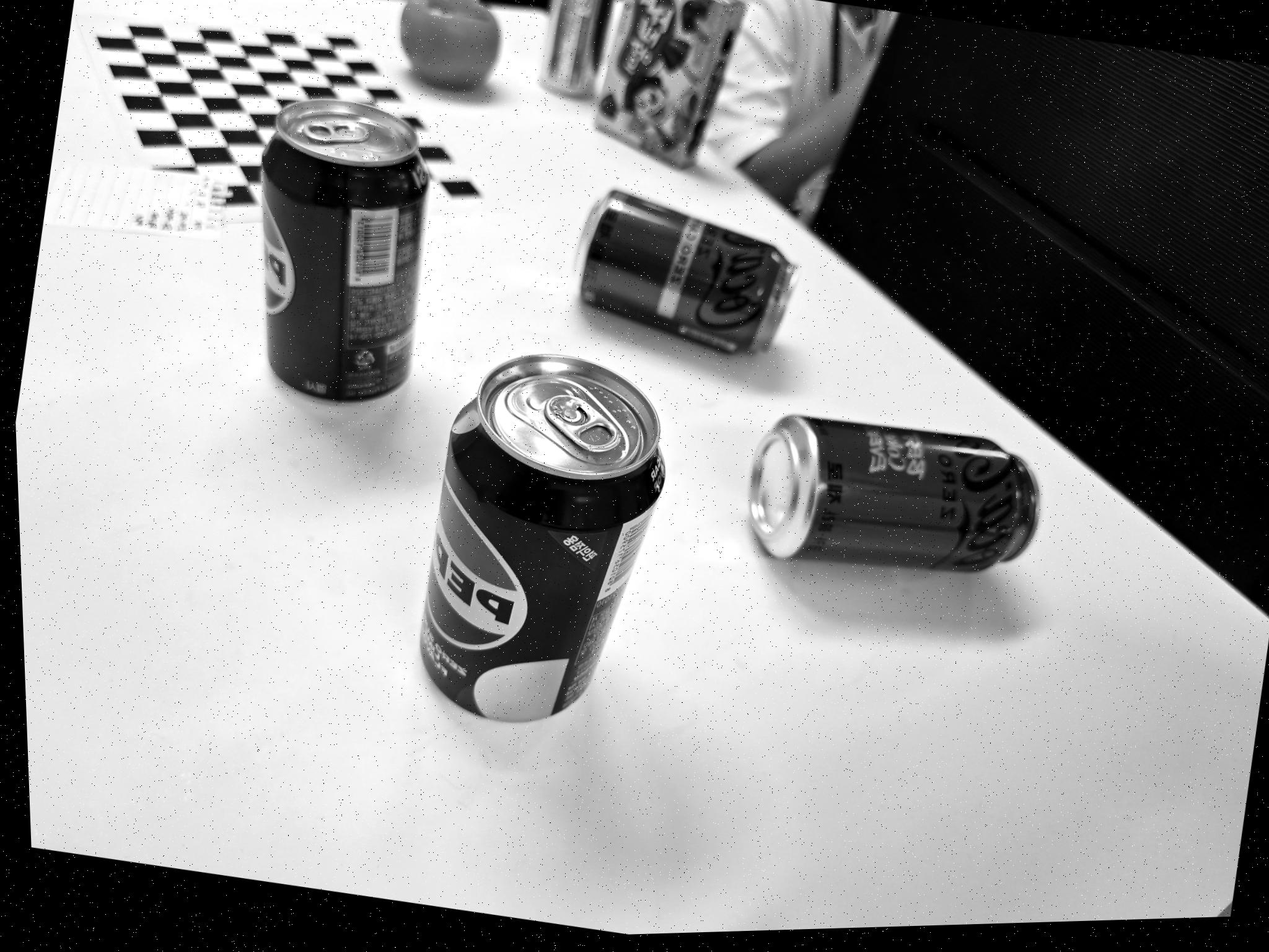can_coke_decaf: (578, 191, 796, 352)
can_coke_zero: (750, 416, 1038, 572)
can_pepsi: (261, 99, 429, 401)
can_pepsi_zero: (421, 355, 666, 721)
